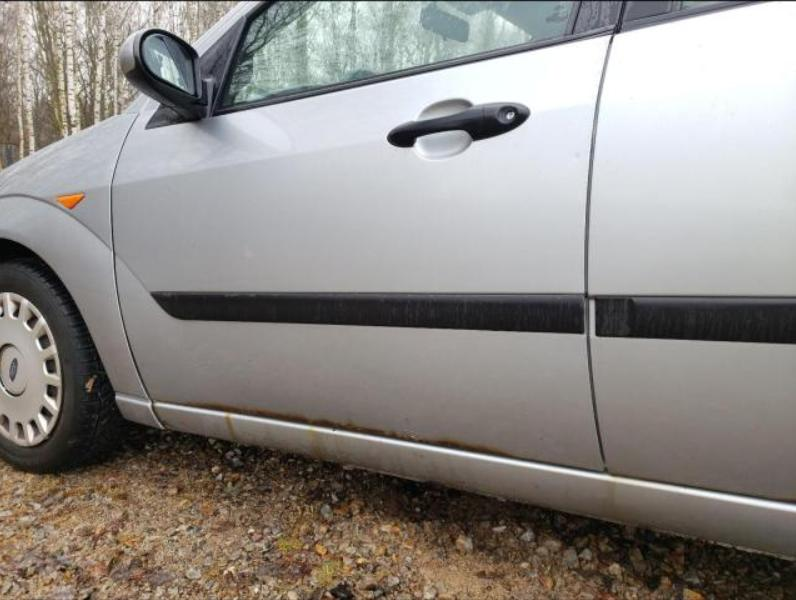Back-door: (585, 0, 795, 502)
Back-window: (678, 1, 718, 11)
Fender: (0, 114, 164, 428)
Front-door: (111, 1, 625, 473)
Front-wheel: (0, 260, 124, 473)
Front-window: (215, 0, 580, 110)
Mirror: (120, 27, 213, 121)
Rocker-panel: (153, 402, 796, 560)
